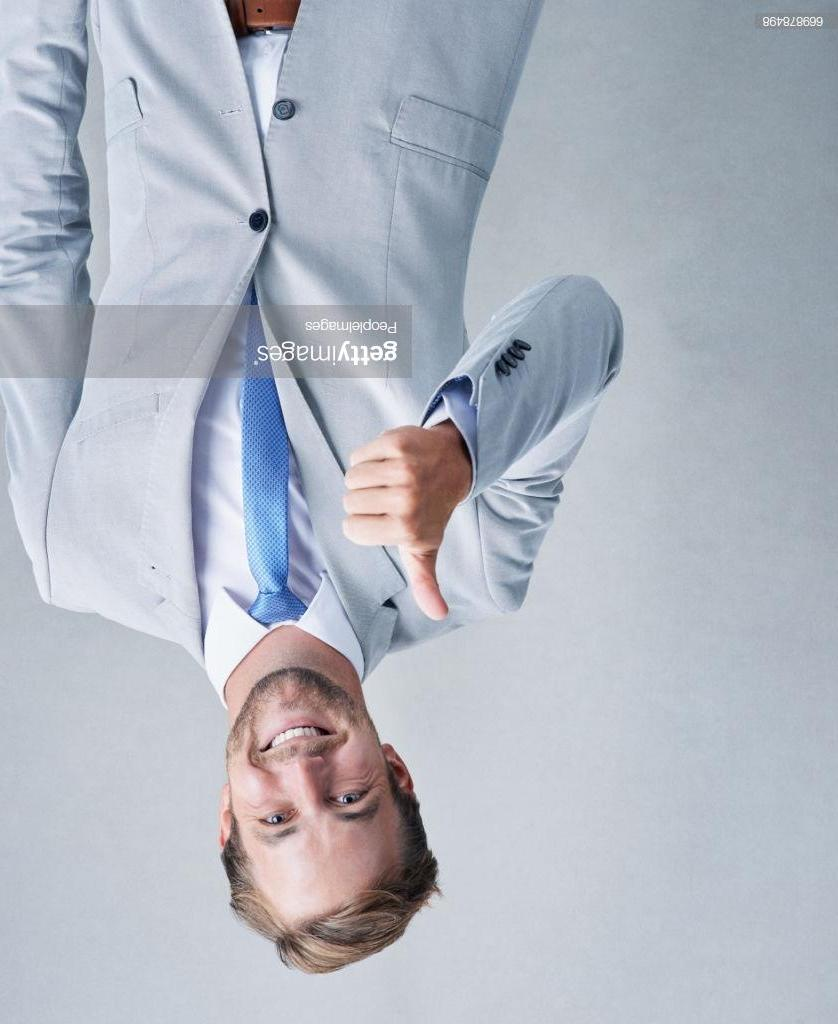thumbsdown: (342, 429, 450, 621)
